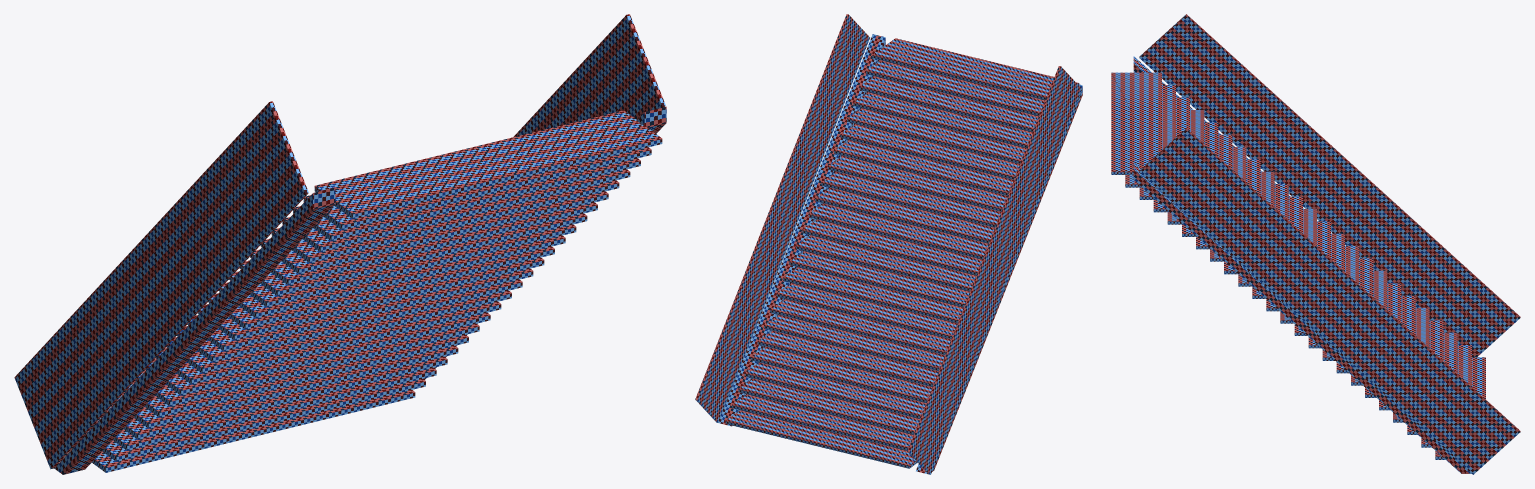
The model's file is stairs_rail_01.fbx.
3 renders of one model, left to right at view 1: azimuth 30°, elevation 25°; view 2: azimuth 150°, elevation 25°; view 3: azimuth 270°, elevation 25°, orthographic. The views are drawn at different scales.
Parts seen in each view (by area): view 1: stairs_rail_01; view 2: stairs_rail_01; view 3: stairs_rail_01.
Boxes of the visible parts, x1,y1,x2,y2 form: stairs_rail_01: (14, 14, 666, 474); stairs_rail_01: (695, 14, 1082, 474); stairs_rail_01: (1111, 14, 1520, 474).
Size of the model in its own units: 408 by 570 by 612.
Materials: 1 (1 with a texture image).
